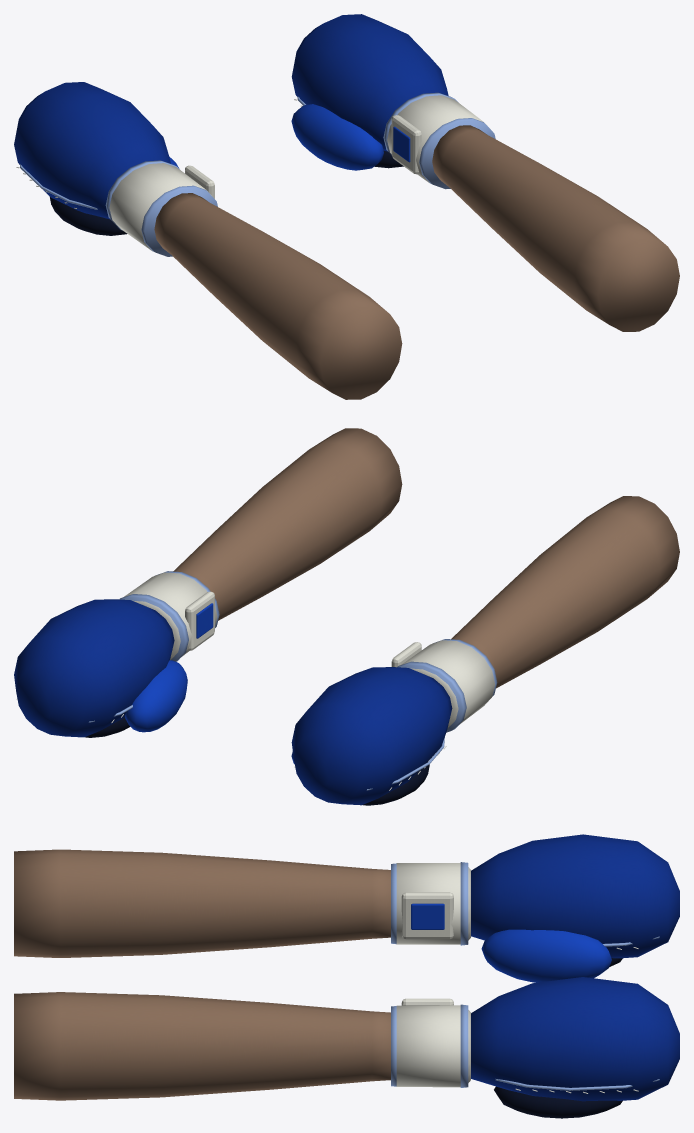
File: gloves_fp.glb
3 views of the same model, one above another, from view 1: azimuth 30°, elevation 25°; view 2: azimuth 150°, elevation 25°; view 3: azimuth 270°, elevation 25° (orthographic). The views are drawn at different scales.
Visible parts, largest first — view 1: GloveR, GloveL; view 2: GloveR, GloveL; view 3: GloveL, GloveR.
Boxes of the visible parts, bbox=[...] form: GloveR: bbox=[291, 14, 679, 331]; GloveL: bbox=[14, 82, 402, 399]; GloveR: bbox=[14, 428, 402, 737]; GloveL: bbox=[291, 496, 679, 805]; GloveL: bbox=[14, 834, 679, 982]; GloveR: bbox=[14, 977, 679, 1118].
Size of the model in its own units: 0.562 by 0.165 by 0.79.
1 material, 1 textured.
